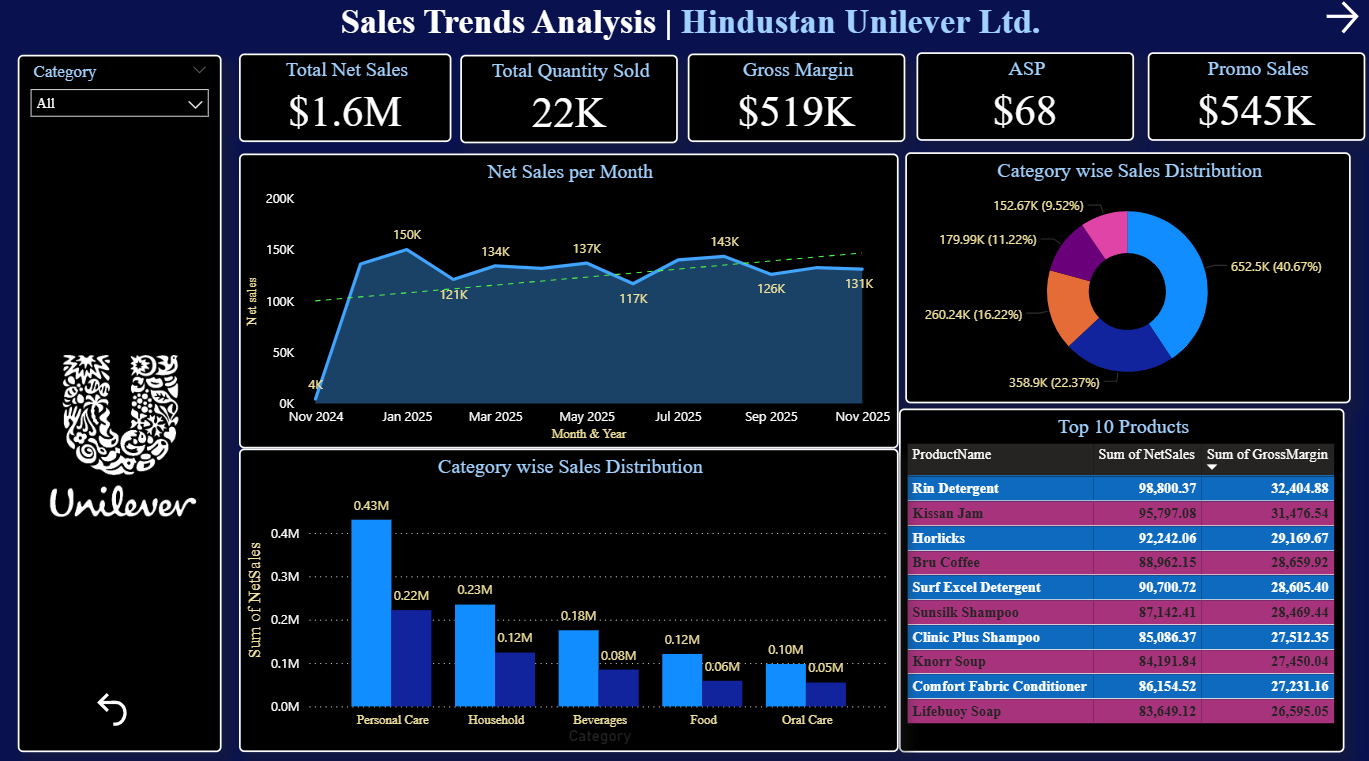

What the dashboard file says about the page in this screenshot:
{"tool":"powerbi","page":{"name":"Sales_trends_analysis","canvas":[1280,720],"ordinal":1},"visuals":[{"type":"textbox","box":[0,0,1280.2,52.3],"z":0},{"type":"card","title":"Total Quantity Sold","fields":{"Values":["mtable.Total Quantity Sold"]},"box":[429.1,54.7,202.3,82.6],"z":1000},{"type":"card","title":"Gross Margin","fields":{"Values":["mtable.Total Gross Margin"]},"box":[640.7,53.5,202.3,82.6],"z":2000},{"type":"card","title":"ASP","fields":{"Values":["mtable.ASP"]},"box":[853.5,52.3,202.3,82.6],"z":3000},{"type":"card","title":"Promo Sales","fields":{"Values":["mtable.Promo Sales"]},"box":[1068.6,52.3,202.3,82.6],"z":4000},{"type":"slicer","title":"Promo Sales","fields":{"Values":["hul_db product.Category"]},"box":[17.4,54.7,189.5,648.8],"z":5000},{"type":"image","box":[17.4,136,189.5,548.8],"z":6000},{"type":"lineChart","title":"Net Sales per Month","fields":{"Y":["Sum(hul_db sales.NetSales)"],"Category":["hul_db date.Date.Variation.Date Hierarchy.Year","hul_db date.Date.Variation.Date Hierarchy.Month"]},"box":[223.7,146.8,613.4,274.4],"z":7000},{"type":"donutChart","title":"Category wise Sales Distribution","fields":{"Category":["hul_db product.Category"],"Y":["Sum(hul_db sales.NetSales)"]},"box":[842.5,145.5,414.4,233.3],"z":8000},{"type":"tableEx","title":"Top 10 Products","fields":{"Values":["hul_db product.ProductName","Sum(hul_db sales.NetSales)","Sum(hul_db sales.GrossMargin)"]},"box":[837.1,384.2,414.4,319.7],"z":9000},{"type":"clusteredColumnChart","title":"Category wise Sales Distribution","fields":{"Category":["hul_db product.Category"],"Y":["Sum(hul_db sales.NetSales)"],"Series":["hul_db sales.Promo Type"]},"box":[223.7,421.3,613.4,282.7],"z":10000},{"type":"card","title":"Total Net Sales","fields":{"Values":["mtable.Total Net Sales"]},"box":[223.3,53.5,197.7,82.6],"z":11000},{"type":"actionButton","box":[1229.5,0,50.8,39.8],"z":12000},{"type":"actionButton","box":[85.1,643.4,100.4,40.9],"z":13000}]}

Visuals, with their boxes in screenshot pixels (x1, y1, x2, y2), scaled from the page's 1280x720 canvas onto the 1369x761 screenshot:
textbox: (left=0, top=0, right=1368, bottom=55)
"Total Quantity Sold" card: (left=459, top=58, right=675, bottom=145)
"Gross Margin" card: (left=685, top=57, right=902, bottom=144)
"ASP" card: (left=913, top=55, right=1129, bottom=143)
"Promo Sales" card: (left=1143, top=55, right=1359, bottom=143)
"Promo Sales" slicer: (left=19, top=58, right=221, bottom=744)
image: (left=19, top=144, right=221, bottom=724)
"Net Sales per Month" lineChart: (left=239, top=155, right=895, bottom=445)
"Category wise Sales Distribution" donutChart: (left=901, top=154, right=1344, bottom=400)
"Top 10 Products" tableEx: (left=895, top=406, right=1339, bottom=744)
"Category wise Sales Distribution" clusteredColumnChart: (left=239, top=445, right=895, bottom=744)
"Total Net Sales" card: (left=239, top=57, right=450, bottom=144)
actionButton: (left=1315, top=0, right=1368, bottom=42)
actionButton: (left=91, top=680, right=198, bottom=723)
